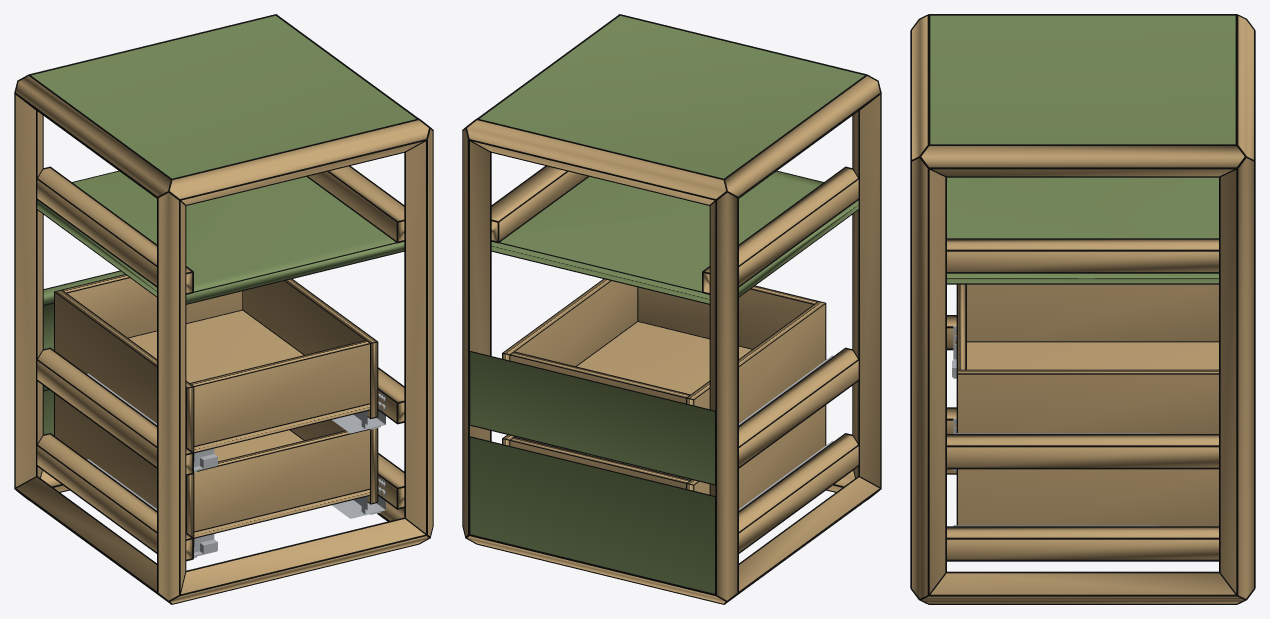
The model's file is 003-table-chevet.glb.
3 views of the same model, side by side, from view 1: azimuth 30°, elevation 25°; view 2: azimuth 150°, elevation 25°; view 3: azimuth 270°, elevation 25° (orthographic). The views are drawn at different scales.
Visible parts, largest first — view 1: panneau-dessus_exterieur, tablette-plate-mod-0, drawer-box-avant-mod-2, drawer-box-avant-mod-1, arete-Z0, arete-Z1, arete-Z2, drawer-box-joue_g-mod-2, arete-X2, drawer-box-dessous-mod-2, arete-X0, drawer-box-joue_d-mod-2 (+34 smaller); view 2: panneau-dessus_exterieur, drawer-box-facade-mod-1, tablette-plate-mod-0, drawer-box-facade-mod-2, arete-Z2, arete-Z0, arete-X3, arete-Z3, drawer-box-dessous-mod-2, drawer-box-joue_d-mod-2, drawer-box-joue_g-mod-2, drawer-box-avant-mod-2 (+27 smaller); view 3: panneau-dessus_exterieur, tablette-plate-mod-0, drawer-box-joue_d-mod-2, drawer-box-joue_d-mod-1, drawer-box-joue_g-mod-2, arete-Z1, arete-Z3, arete-Y3, arete-Y1, tablette-traverse-right-mod-0, drawer-tr-drawer-traverse-right-mod-1, drawer-tr-drawer-traverse-right-mod-2 (+17 smaller).
Part boxes in pixels (<box>): panneau-dessus_exterieur: <box>31,15,416,178</box>; tablette-plate-mod-0: <box>37,171,404,303</box>; drawer-box-avant-mod-2: <box>191,341,369,445</box>; drawer-box-avant-mod-1: <box>194,429,369,531</box>; arete-Z0: <box>158,192,185,600</box>; arete-Z1: <box>406,129,432,535</box>; arete-Z2: <box>15,95,42,486</box>; drawer-box-joue_g-mod-2: <box>55,290,193,451</box>; arete-X2: <box>170,120,428,204</box>; drawer-box-dessous-mod-2: <box>129,310,369,451</box>; arete-X0: <box>170,519,428,603</box>; drawer-box-joue_d-mod-2: <box>243,279,377,417</box>; panneau-dessus_exterieur: <box>479,15,864,178</box>; drawer-box-facade-mod-1: <box>470,437,714,593</box>; tablette-plate-mod-0: <box>491,171,858,303</box>; drawer-box-facade-mod-2: <box>470,352,714,484</box>; arete-Z2: <box>710,192,737,600</box>; arete-Z0: <box>853,95,880,486</box>; arete-X3: <box>467,120,725,204</box>; arete-Z3: <box>463,129,489,535</box>; drawer-box-dessous-mod-2: <box>577,322,751,394</box>; drawer-box-joue_d-mod-2: <box>503,279,637,366</box>; drawer-box-joue_g-mod-2: <box>687,302,825,423</box>; drawer-box-avant-mod-2: <box>638,286,817,348</box>; panneau-dessus_exterieur: <box>930,15,1235,144</box>; tablette-plate-mod-0: <box>947,177,1218,283</box>; drawer-box-joue_d-mod-2: <box>958,370,1218,433</box>; drawer-box-joue_d-mod-1: <box>958,469,1218,526</box>; drawer-box-joue_g-mod-2: <box>967,284,1218,341</box>; arete-Z1: <box>912,158,945,598</box>; arete-Z3: <box>1220,158,1253,598</box>; arete-Y3: <box>921,146,1244,176</box>; arete-Y1: <box>922,573,1243,603</box>; tablette-traverse-right-mod-0: <box>947,239,1218,271</box>; drawer-tr-drawer-traverse-right-mod-1: <box>947,527,1218,559</box>; drawer-tr-drawer-traverse-right-mod-2: <box>947,435,1218,467</box>.
Bounding box in the file's own units: 0.4238 × 0.6238 × 0.4238.
